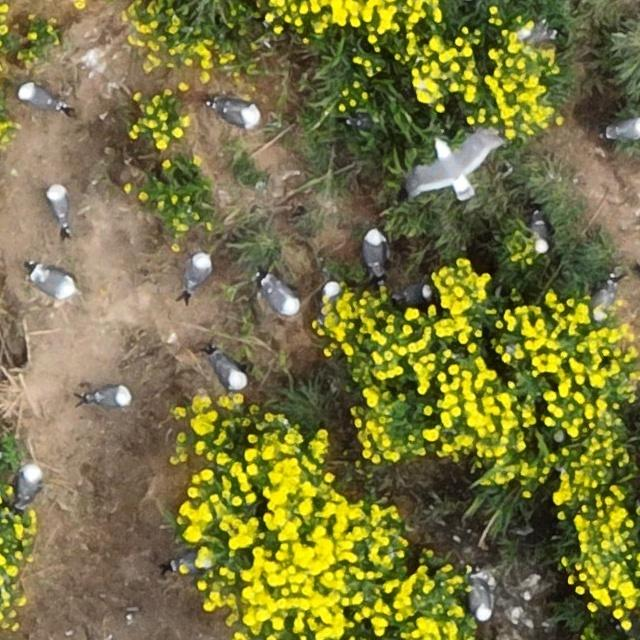F: (409, 132, 493, 196)
umineko: (34, 268, 76, 296), (266, 282, 298, 316), (215, 355, 246, 389), (217, 104, 260, 128), (17, 463, 41, 502), (363, 228, 385, 270), (19, 86, 57, 109), (90, 387, 130, 408), (471, 581, 492, 621), (188, 253, 210, 288), (50, 188, 70, 226), (398, 284, 431, 305), (324, 279, 346, 309), (611, 118, 640, 140), (174, 550, 202, 571), (533, 218, 550, 252)
